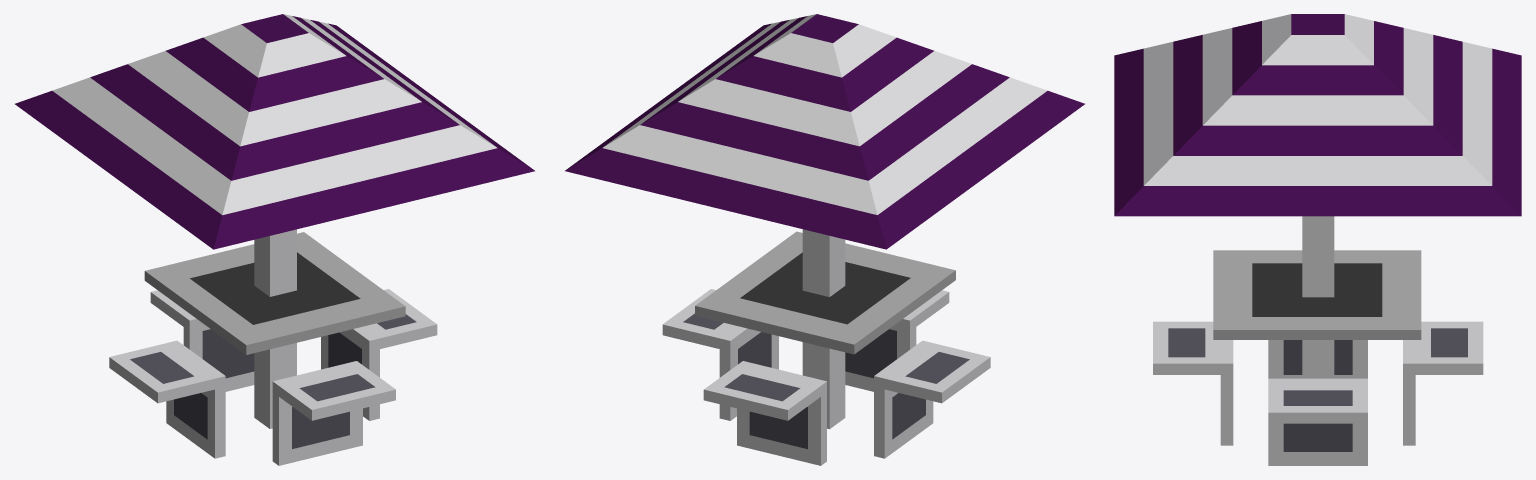
File: umbrella3.FBX
3 views of the same model, side by side, from view 1: azimuth 30°, elevation 25°; view 2: azimuth 150°, elevation 25°; view 3: azimuth 270°, elevation 25° (orthographic). The views are drawn at different scales.
Visible parts, largest first — view 1: umbrella3; view 2: umbrella3; view 3: umbrella3.
Part boxes in pixels (bbox=[...]): umbrella3: bbox=[15, 14, 534, 465]; umbrella3: bbox=[565, 14, 1084, 465]; umbrella3: bbox=[1114, 14, 1521, 465].
Bounding box in the file's own units: 7.15 × 8.32 × 7.66.
